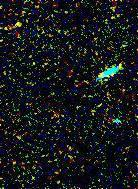star: (5, 10, 35, 40)
